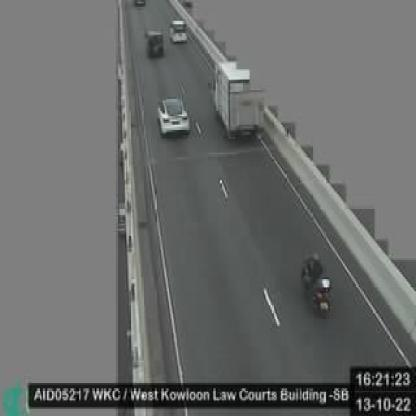Car: (154, 94, 192, 140), (145, 28, 165, 60), (171, 19, 190, 44), (136, 1, 148, 9)
Truck: (212, 61, 258, 140)
